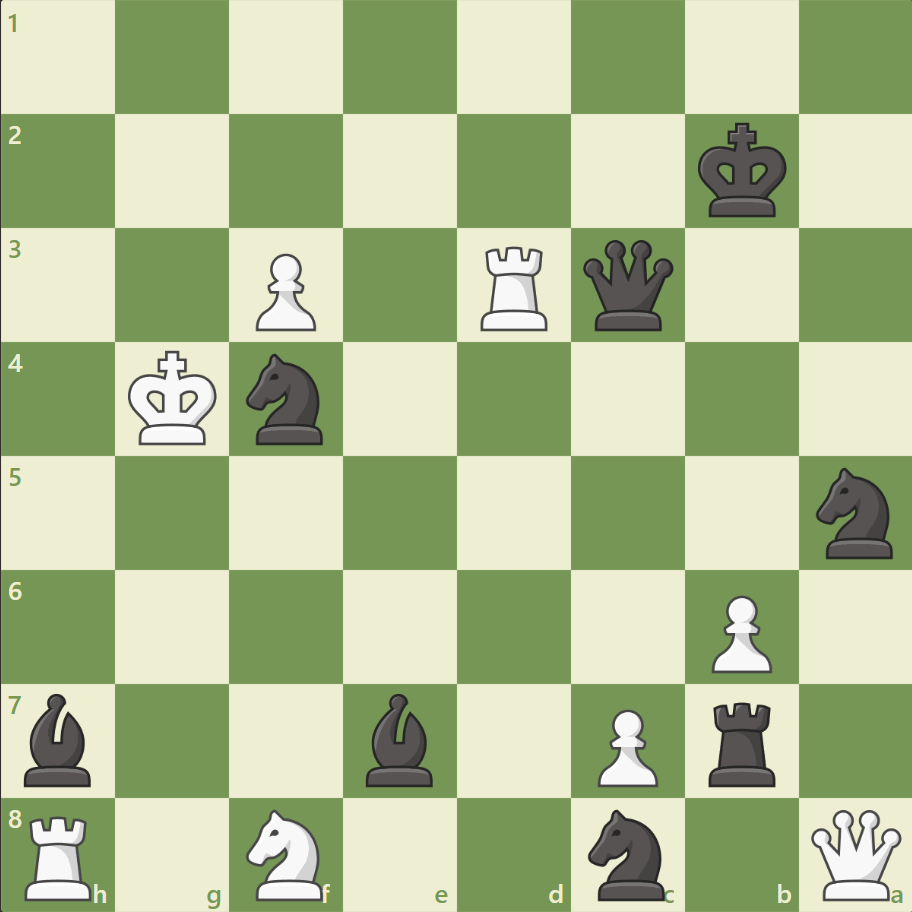K: (124, 344, 224, 452)
N: (238, 802, 335, 904)
P: (701, 586, 776, 677), (247, 246, 322, 337), (588, 700, 662, 791)
Q: (805, 804, 904, 903)
R: (19, 806, 102, 904), (473, 239, 556, 336)
b: (358, 687, 442, 790), (17, 687, 101, 790)
k: (692, 117, 792, 225)
n: (806, 461, 903, 564), (579, 802, 676, 904), (238, 348, 335, 450)
q: (578, 236, 677, 335)
r: (700, 693, 783, 790)
